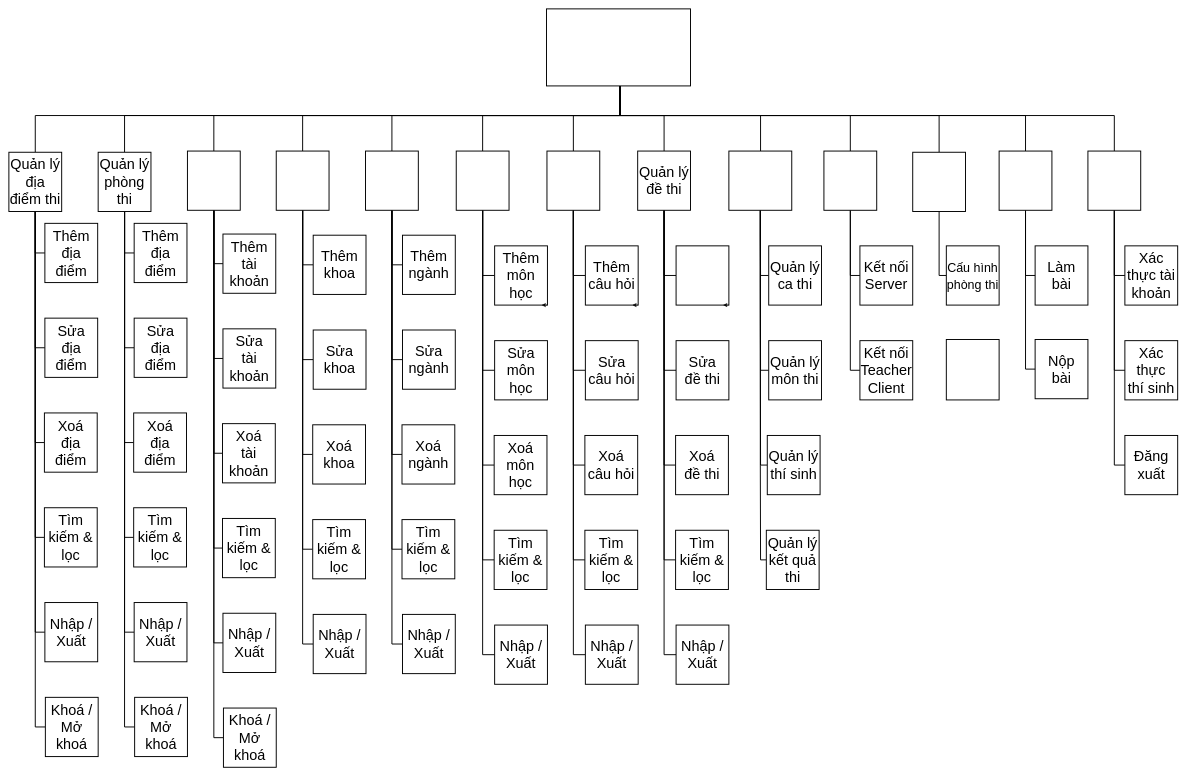
Image size: 1186x776. Some labels were removed from this diagram. The centre of each missing label's shape, as x and y in pixels:
Hệ thống Edudex Quiz: the point at 618,47
Kết nối: the point at 850,180
Quản lý câu hỏi: the point at 573,180
Quản lý khoa: the point at 302,180
Quản lý kỳ thi: the point at 760,180
Quản lý môn học: the point at 482,180
Quản lý ngành: the point at 392,180
Quản lý thông tin thi: the point at 972,369
Quản lý tài khoản: the point at 213,180
Student Client: the point at 1025,180
Teacher Client: the point at 939,182
Thêm đề thi: the point at 702,275
Đăng nhập: the point at 1114,180
